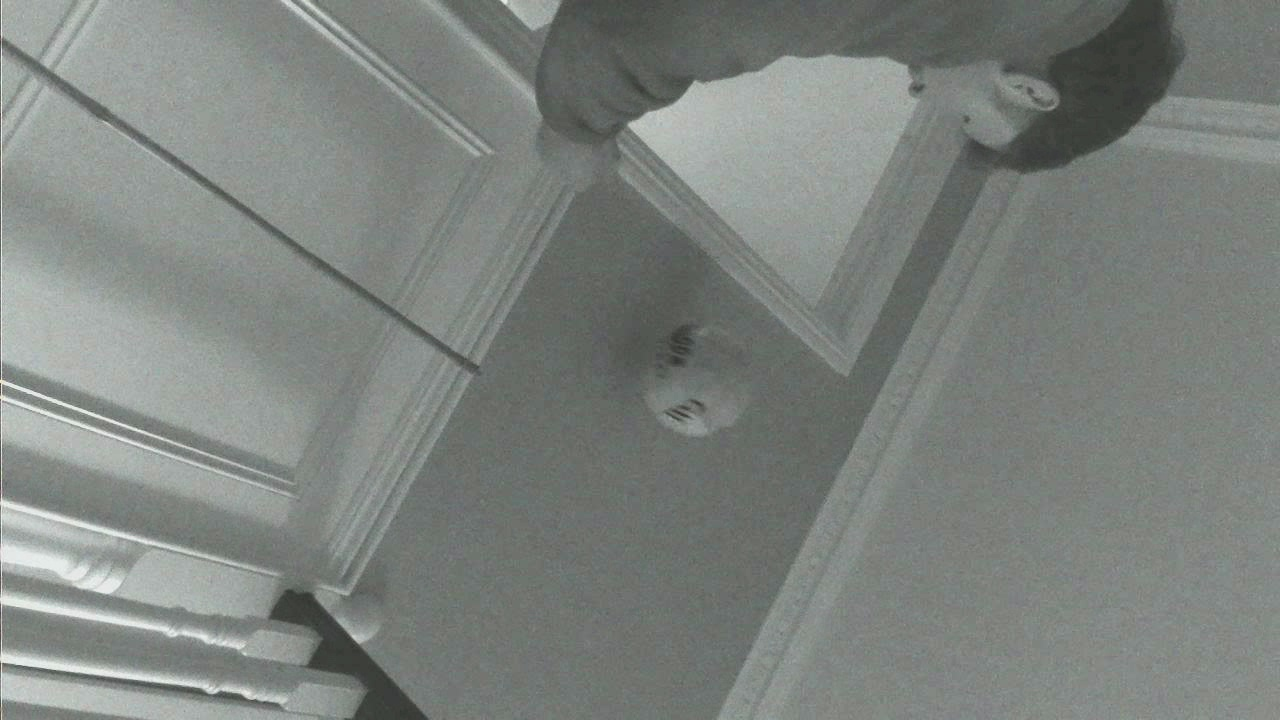Football-Spotter: (646, 324, 748, 436)
